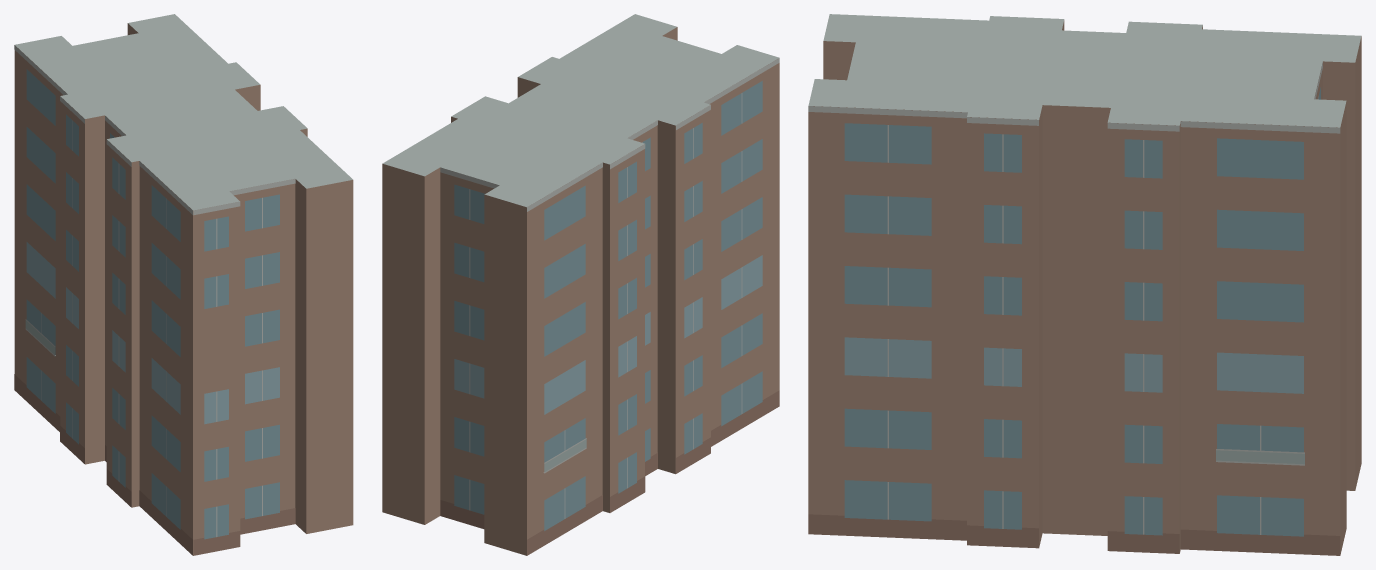
Rendered from survey-upis-32670566.glb.
3 views of the same model, side by side, from view 1: azimuth 30°, elevation 25°; view 2: azimuth 150°, elevation 25°; view 3: azimuth 270°, elevation 25° (orthographic). The views are drawn at different scales.
Visible parts, largest first — view 1: survey-upis-32670566.tmp; view 2: survey-upis-32670566.tmp; view 3: survey-upis-32670566.tmp.
Boxes of the visible parts, x1=… form: survey-upis-32670566.tmp: x1=14, y1=14, x2=353, y2=555; survey-upis-32670566.tmp: x1=382, y1=14, x2=779, y2=555; survey-upis-32670566.tmp: x1=808, y1=14, x2=1361, y2=555.
Size of the model in its own units: 9.85 by 17.3 by 20.25.
